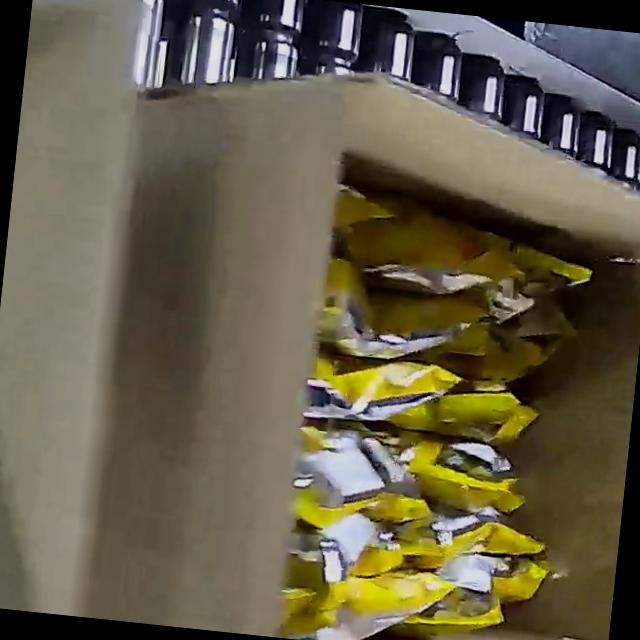salted: (273, 176, 604, 640)
